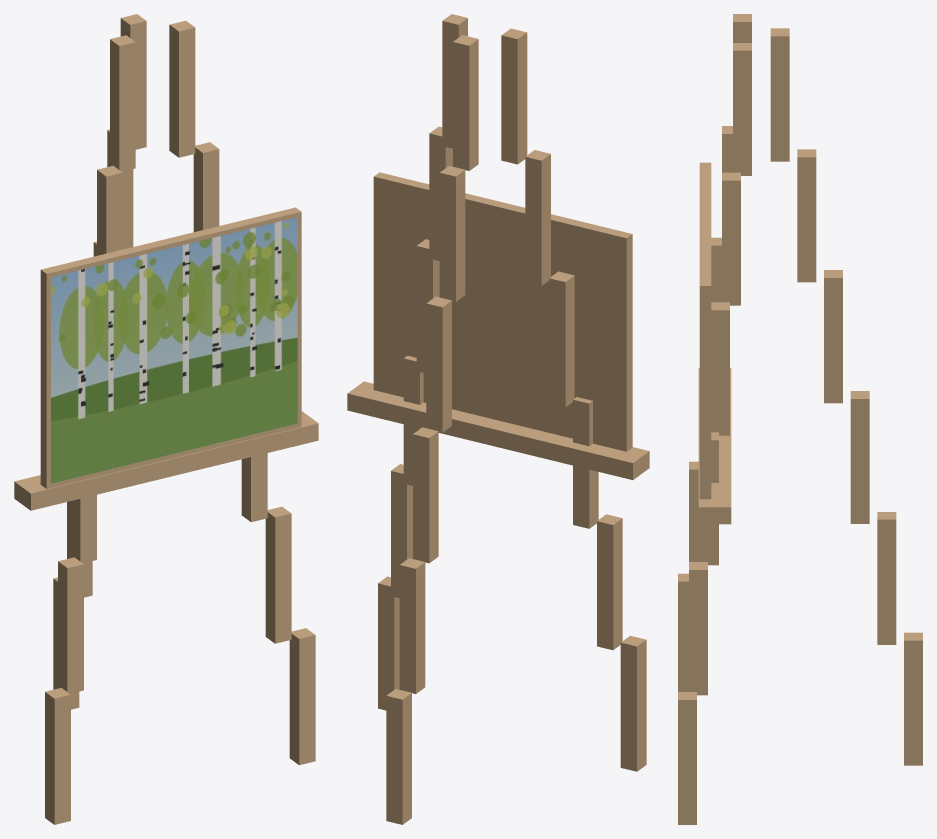
File: easel.glb
3 renders of one model, left to right at view 1: azimuth 30°, elevation 25°; view 2: azimuth 150°, elevation 25°; view 3: azimuth 270°, elevation 25°, orthographic.
Parts seen in each view (by area): view 1: easel; view 2: easel; view 3: easel.
Boxes of the visible parts, bbox=[...] form: easel: bbox=[14, 14, 318, 824]; easel: bbox=[347, 14, 649, 824]; easel: bbox=[678, 14, 922, 824].
Bounding box in the file's own units: 0.7 × 1.71 × 0.52.
2 materials, 1 textured.
